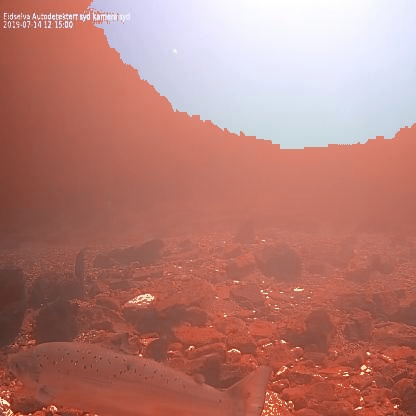salmon: (4, 328, 276, 416)
